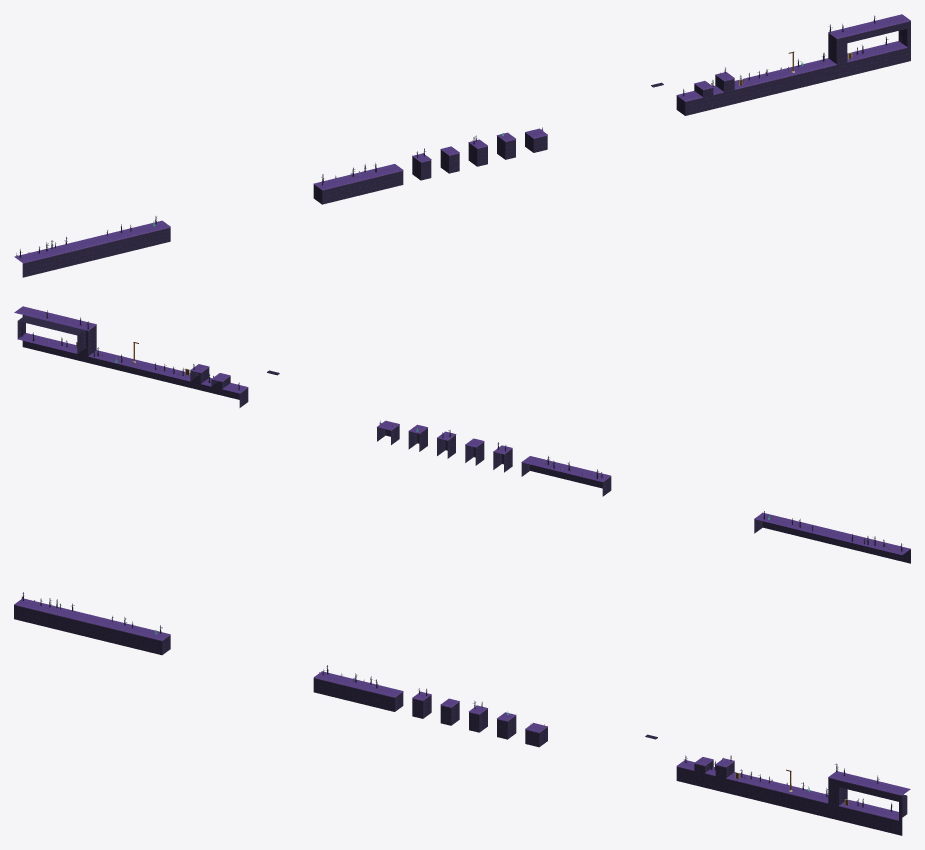
Rendered from level-6.glb.
The picture shows the model from 3 angles, top to bottom: view 1: azimuth 30°, elevation 25°; view 2: azimuth 150°, elevation 25°; view 3: azimuth 330°, elevation 25°; orthographic projection.
Parts seen in each view (by area): view 1: Sector_17_0, Sector_16_0, Sector_14_0, Sector_6_0, Sector_15_0, Sector_0_0, Sector_2_0, Sector_1_0, Sector_13_0, Sector_8_0, Sector_9_0, Sector_7_0; view 2: Sector_17_0, Sector_16_0, Sector_14_0, Sector_2_0, Sector_8_0, Sector_0_0, Sector_9_0, Sector_15_0, Sector_6_0, Sector_1_0, Sector_7_0, Sector_13_0; view 3: Sector_17_0, Sector_16_0, Sector_14_0, Sector_2_0, Sector_15_0, Sector_0_0, Sector_1_0, Sector_6_0, Sector_7_0, Sector_8_0, Sector_9_0, Sector_13_0.
Boxes of the visible parts, x1,y1,x2,y2 form: Sector_17_0: (853, 14, 910, 72); Sector_16_0: (804, 24, 861, 84); Sector_14_0: (711, 67, 762, 108); Sector_6_0: (313, 167, 367, 204); Sector_15_0: (754, 51, 811, 96); Sector_0_0: (14, 240, 71, 277); Sector_2_0: (113, 216, 170, 253); Sector_1_0: (64, 230, 121, 265); Sector_13_0: (676, 81, 713, 115); Sector_8_0: (412, 146, 459, 180); Sector_9_0: (468, 132, 515, 166); Sector_7_0: (360, 163, 403, 193); Sector_17_0: (14, 306, 71, 358); Sector_16_0: (63, 317, 121, 370); Sector_14_0: (162, 364, 219, 394); Sector_2_0: (754, 511, 811, 539); Sector_8_0: (465, 438, 512, 472); Sector_0_0: (853, 536, 910, 563); Sector_9_0: (408, 424, 456, 458); Sector_15_0: (113, 342, 170, 382); Sector_6_0: (557, 461, 611, 496); Sector_1_0: (804, 524, 861, 551); Sector_7_0: (521, 456, 565, 479); Sector_13_0: (211, 373, 248, 407); Sector_17_0: (853, 775, 910, 835); Sector_16_0: (803, 763, 861, 823); Sector_14_0: (705, 755, 762, 799); Sector_2_0: (112, 617, 170, 655); Sector_15_0: (754, 769, 811, 811); Sector_0_0: (14, 592, 71, 631); Sector_1_0: (63, 603, 120, 643); Sector_6_0: (313, 665, 367, 703); Sector_7_0: (359, 676, 403, 711); Sector_8_0: (412, 688, 459, 725); Sector_9_0: (468, 701, 516, 739); Sector_13_0: (676, 755, 713, 787).
Size of the model in its own units: 252 by 13.38 by 4.3.
Materials: 1 (1 with a texture image).
